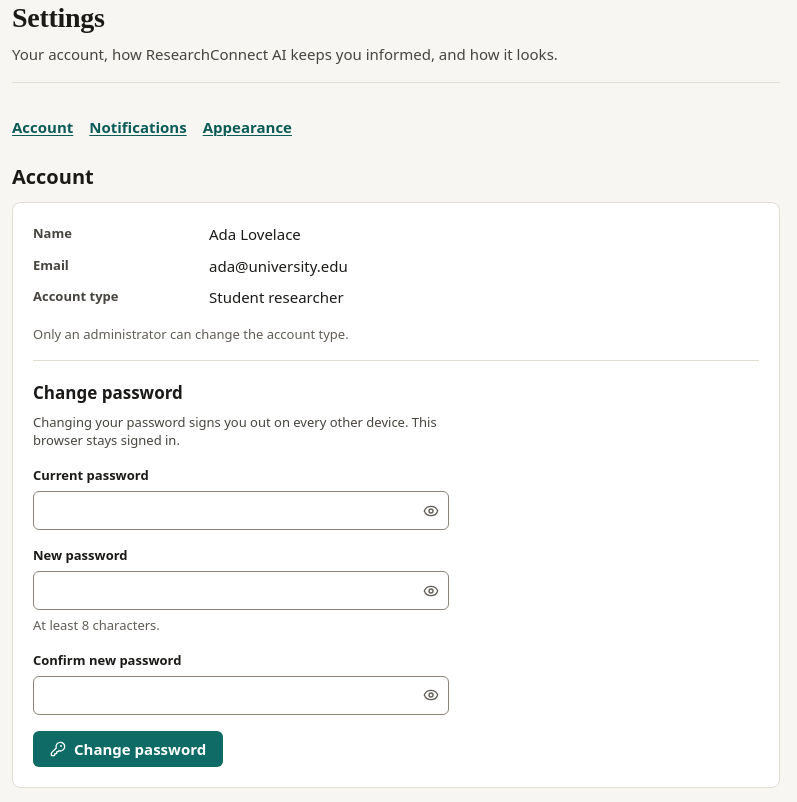
Scenario: change password › never shows a server error's body, and says so plainly when the server is unreachable
Type "old-password" into the password field labelled "Current password". click: (241, 511)
box: 33,491 -> 449,530
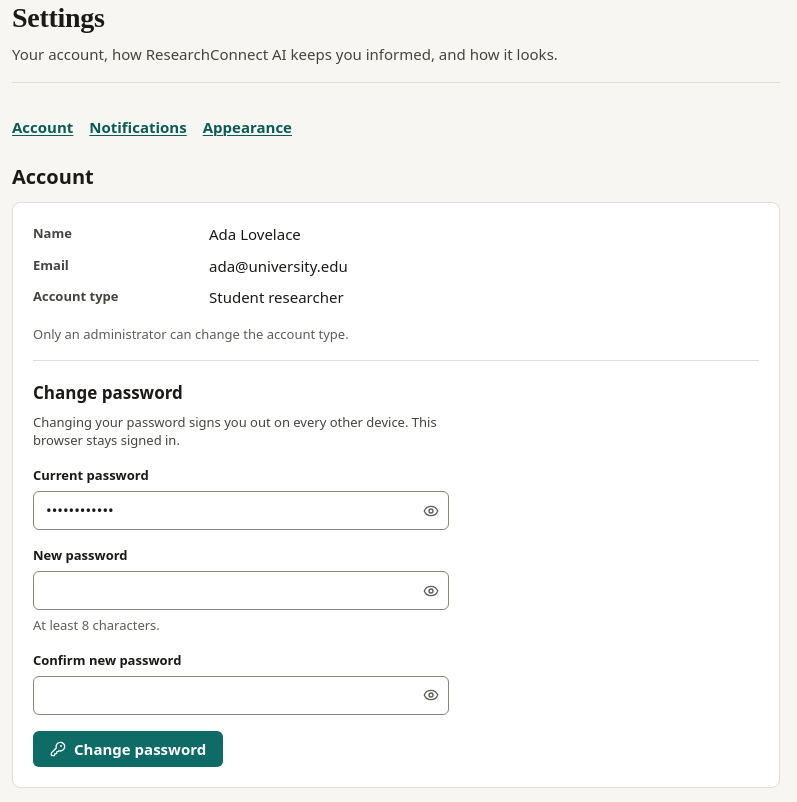
Type "a-new-password" into the password field labelled "New password". click: (241, 590)
box: 33,571 -> 449,610
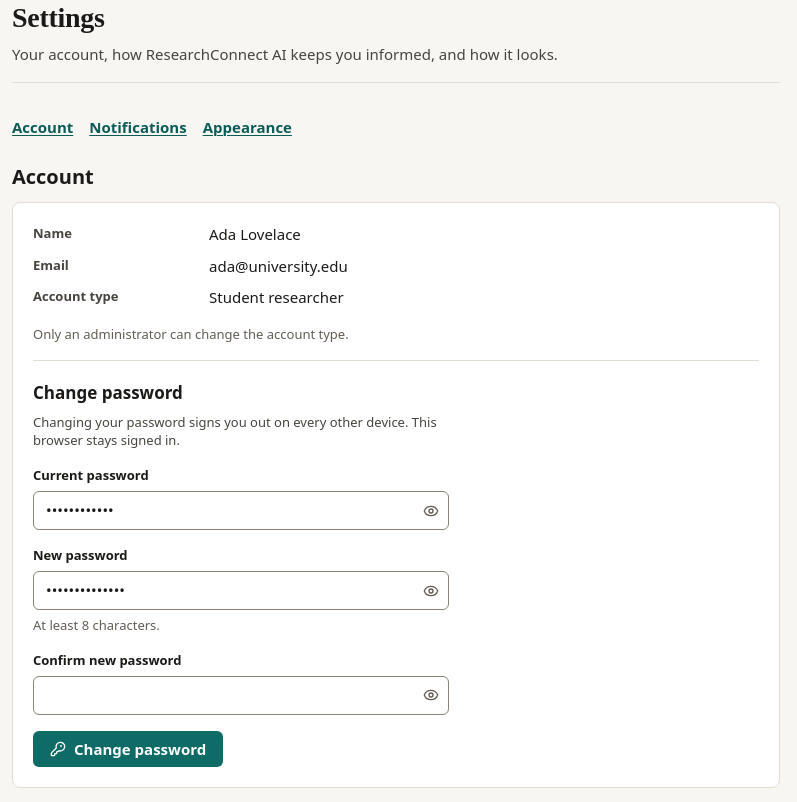
Type "a-new-password" into the password field labelled "Confirm new password". click: (241, 695)
box: 33,676 -> 449,715
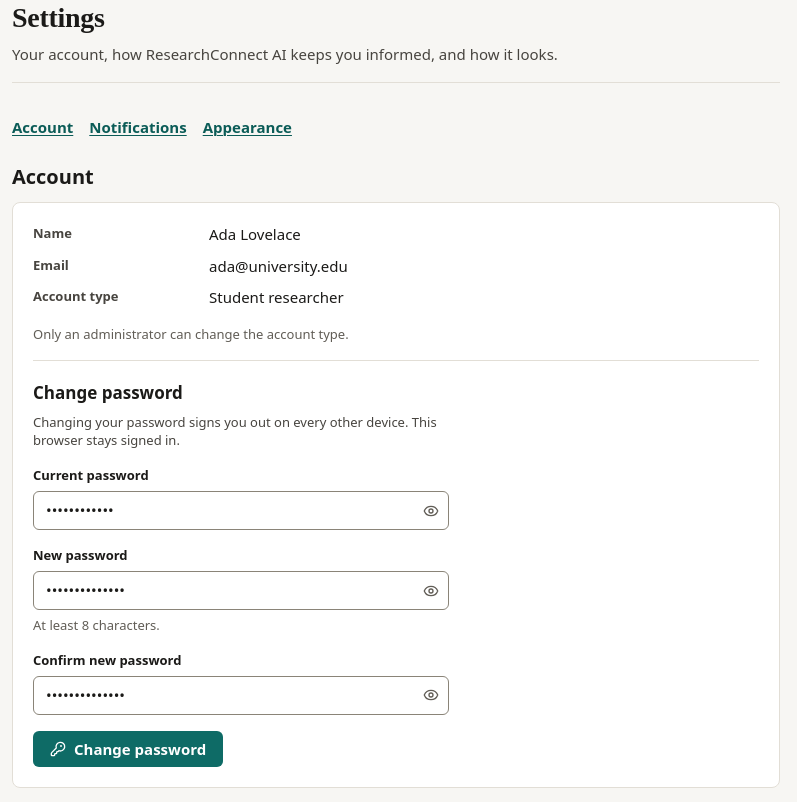
Click the button "Change password". click: (128, 749)
box: 33,731 -> 223,767
(page scrolled)
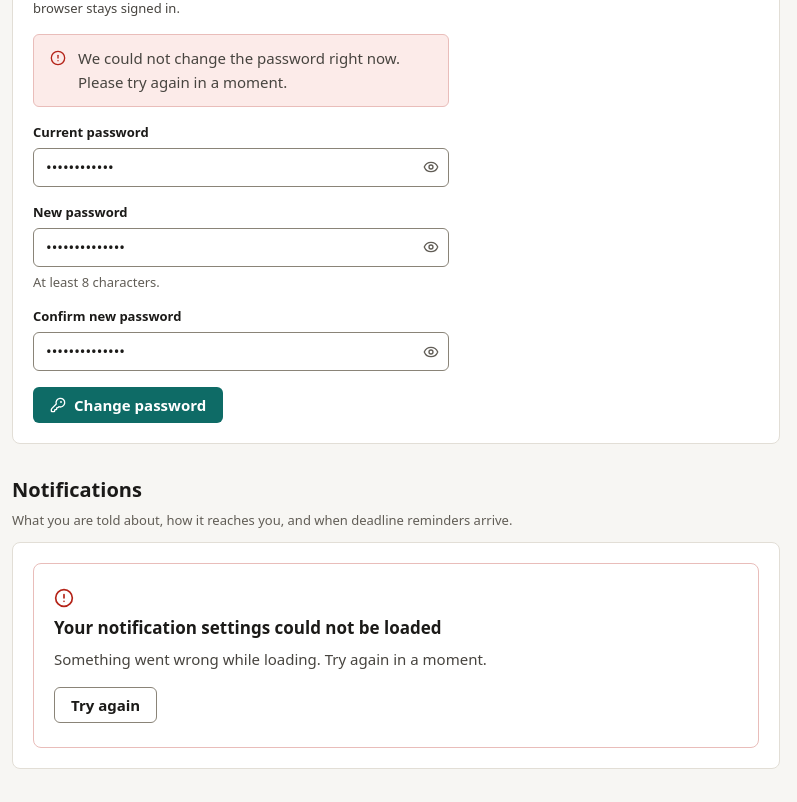
Expected: the message does not show "psycopg", 33,34 -> 449,107
Result: the message shows "We could not change the password right now." at 78,48 -> 400,92
Click the button "Change password". click: (128, 405)
box: 33,387 -> 223,423
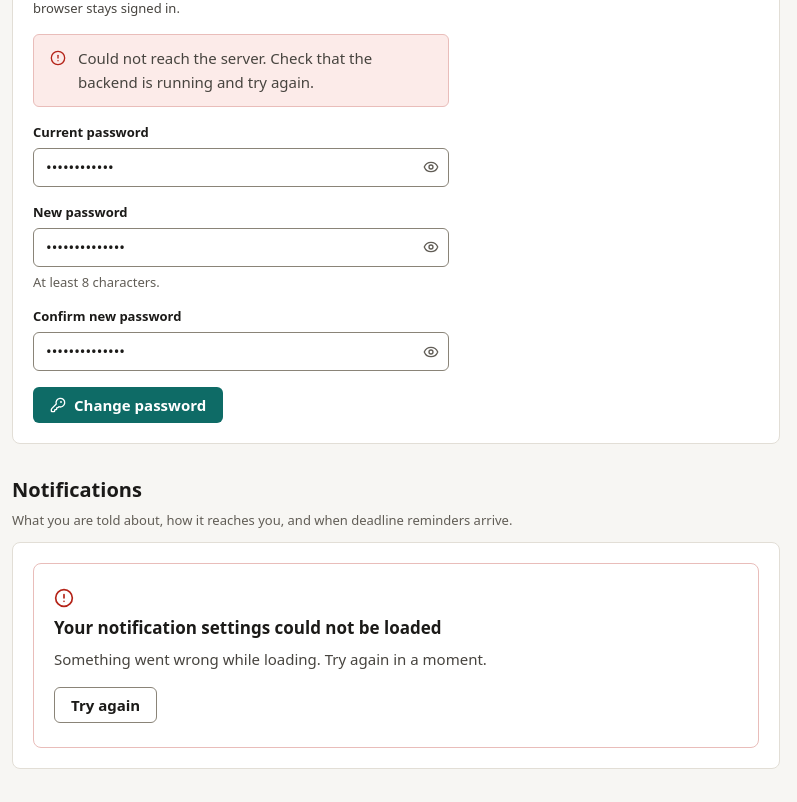
Result: the message shows "Could not reach the server." at 78,48 -> 372,92
